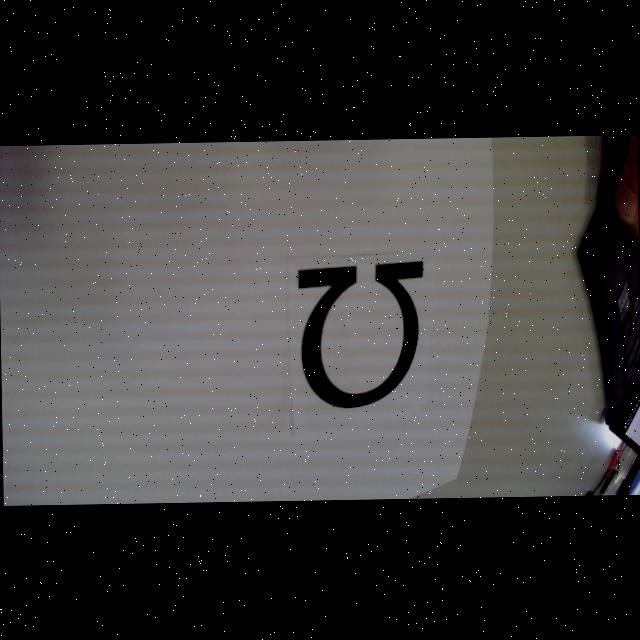OMEGA: (296, 261, 426, 408)
